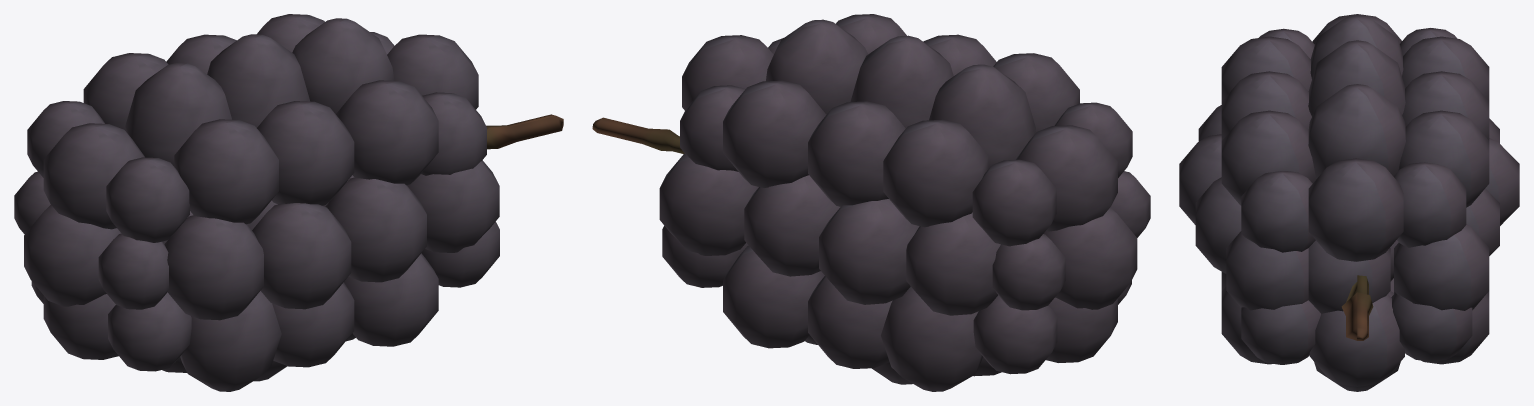
File: budou.fbx
3 views of the same model, side by side, from view 1: azimuth 30°, elevation 25°; view 2: azimuth 150°, elevation 25°; view 3: azimuth 270°, elevation 25° (orthographic). The views are drawn at different scales.
Visible parts, largest first — view 1: pCube2; view 2: pCube2; view 3: pCube2.
Boxes of the visible parts, box(x1,y1,x2,y2) form: pCube2: box(14, 14, 563, 391); pCube2: box(592, 14, 1150, 391); pCube2: box(1179, 14, 1519, 391).
Size of the model in its own units: 4.58 by 2.79 by 2.67.
